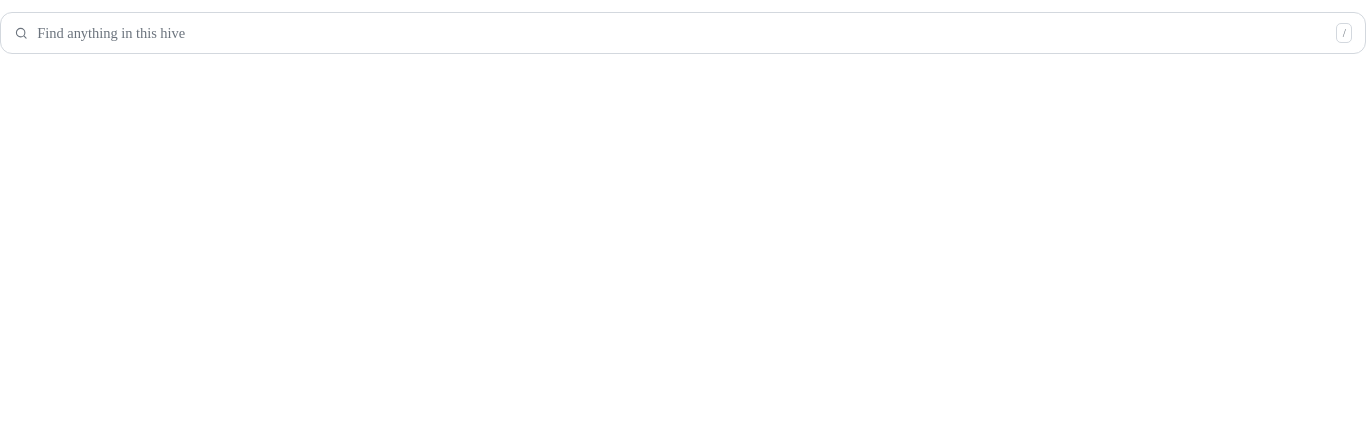
Test case: HiveOmni (find only) › shows the three result groups with the Ask row last
In the dropdown: x=682, y=33 [37,13,1327,53], type "premium"
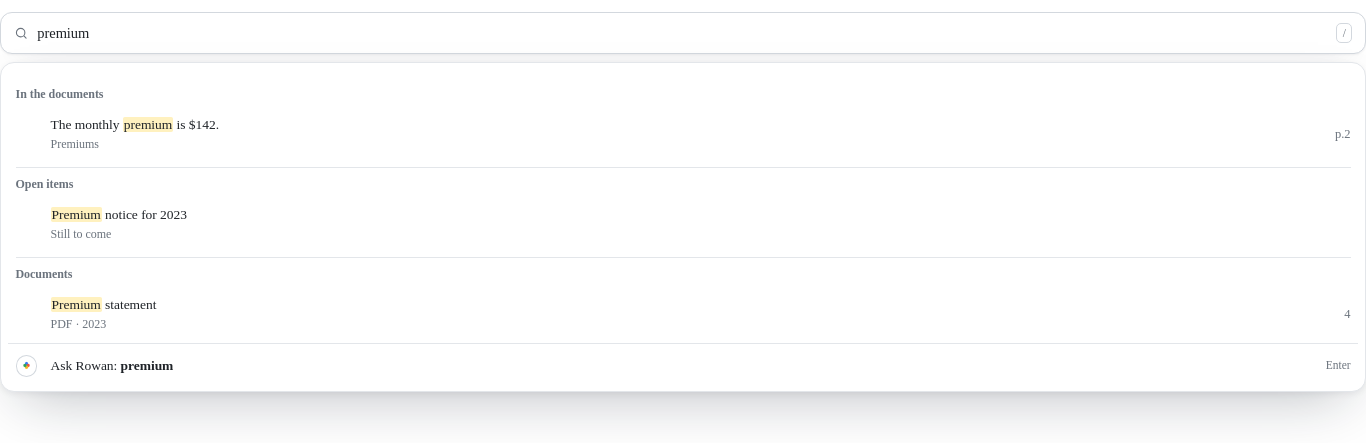
Check: the heading "Open items" is shown, box [16,167,1350,193]
Check: the heading "In the documents" is shown, box [16,87,104,101]
Check: the heading "Documents" is shown, box [16,257,1350,284]
